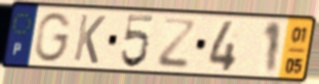1: (260, 20, 282, 77)
4: (207, 19, 238, 73)
5: (119, 12, 156, 70)
G: (33, 11, 74, 64)
K: (71, 12, 108, 66)
Z: (155, 16, 198, 71)
